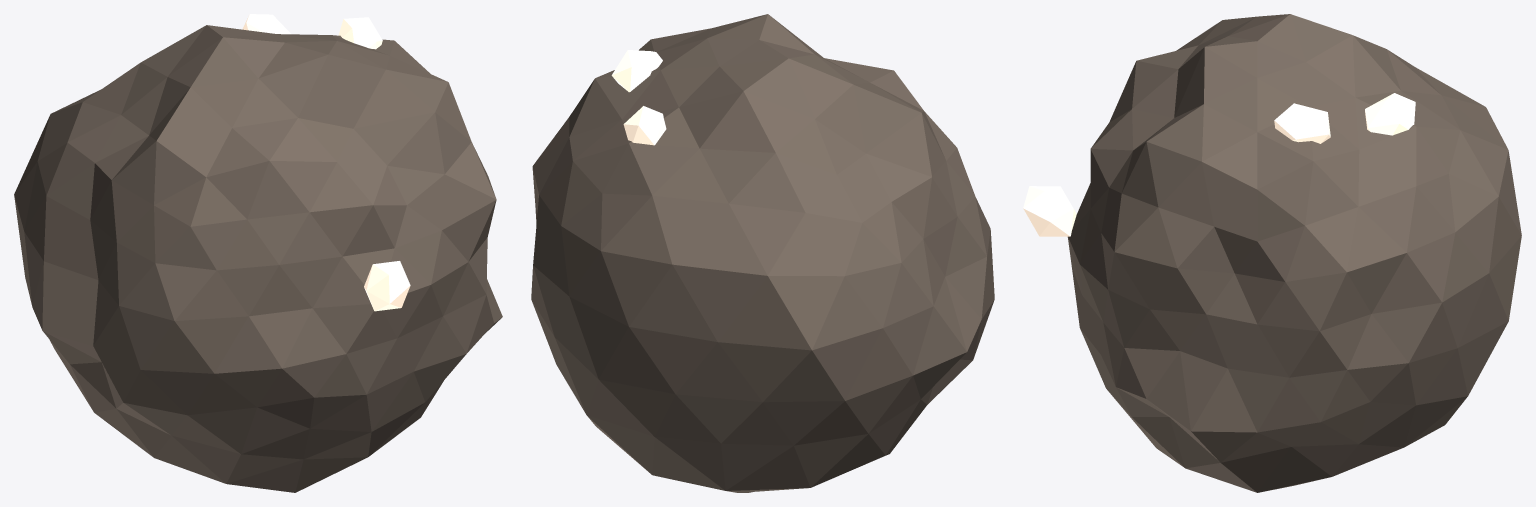
Rendered from asteroid_2.glb.
3 renders of one model, left to right at view 1: azimuth 30°, elevation 25°; view 2: azimuth 150°, elevation 25°; view 3: azimuth 270°, elevation 25°, orthographic.
Parts seen in each view (by area): view 1: Body, Vein0, Vein4, Vein6; view 2: Body, Vein4, Vein6; view 3: Body, Vein0, Vein4, Vein6.
Boxes of the visible parts, x1=… form: Body: x1=14, y1=25, x2=502, y2=492; Vein0: x1=364, y1=261, x2=410, y2=311; Vein4: x1=338, y1=17, x2=382, y2=49; Vein6: x1=242, y1=14, x2=291, y2=34; Body: x1=531, y1=14, x2=994, y2=492; Vein4: x1=611, y1=50, x2=662, y2=92; Vein6: x1=623, y1=106, x2=666, y2=145; Body: x1=1067, y1=14, x2=1521, y2=492; Vein0: x1=1023, y1=186, x2=1076, y2=236; Vein4: x1=1274, y1=103, x2=1330, y2=143; Vein6: x1=1365, y1=93, x2=1415, y2=135.
Bounding box in the file's own units: 1.99 × 1.97 × 2.03.
